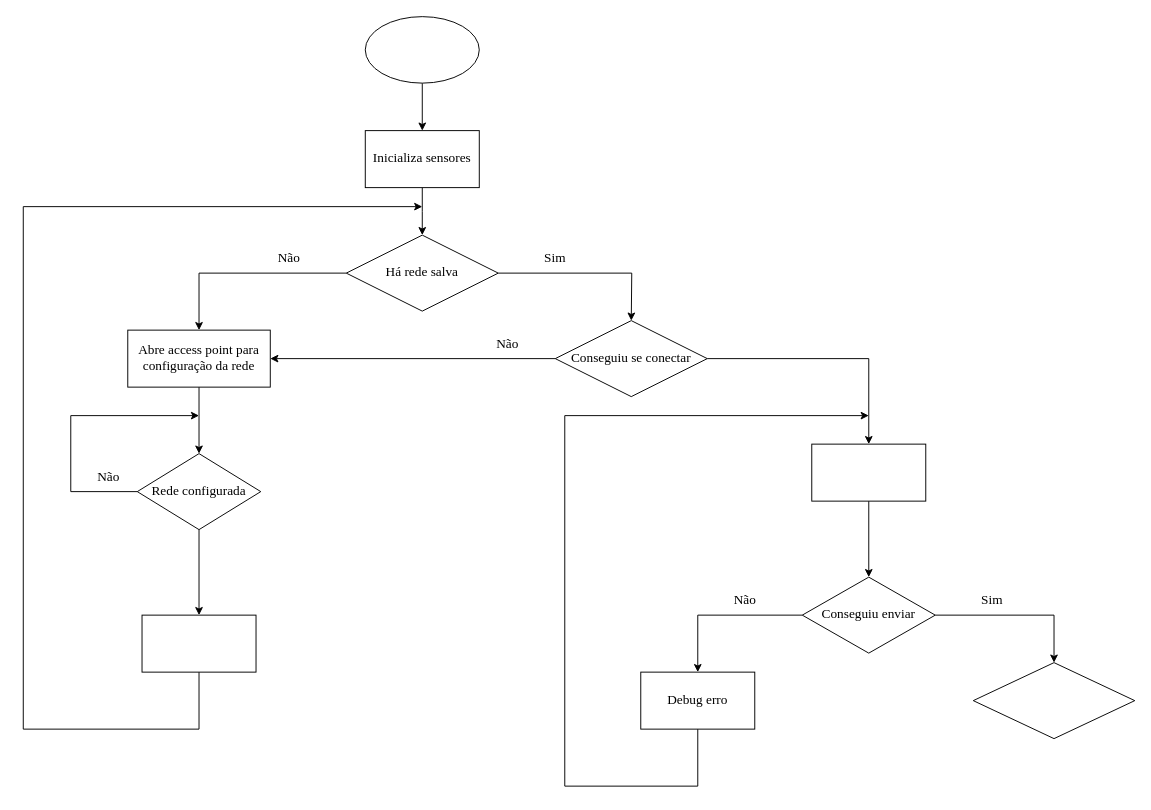
The diagram is 1151 pixels wide and 810 high, and some of its shapes have lost their labels. Each missing label, with the centre of its shape:
"Envia os dados para a nuvem" belongs at pixel 868 472.
"Inicio" belongs at pixel 421 49.
"O chuveiro está ligado" belongs at pixel 1053 700.
"Salva as credenciais e reseta o ESP32" belongs at pixel 198 643.
